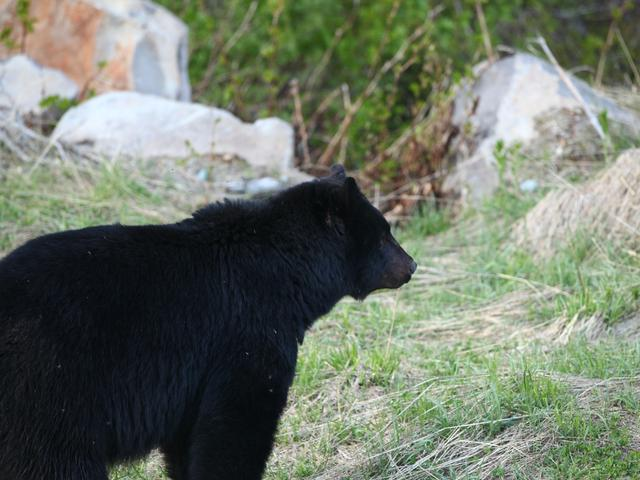Bear: (1, 177, 428, 480)
